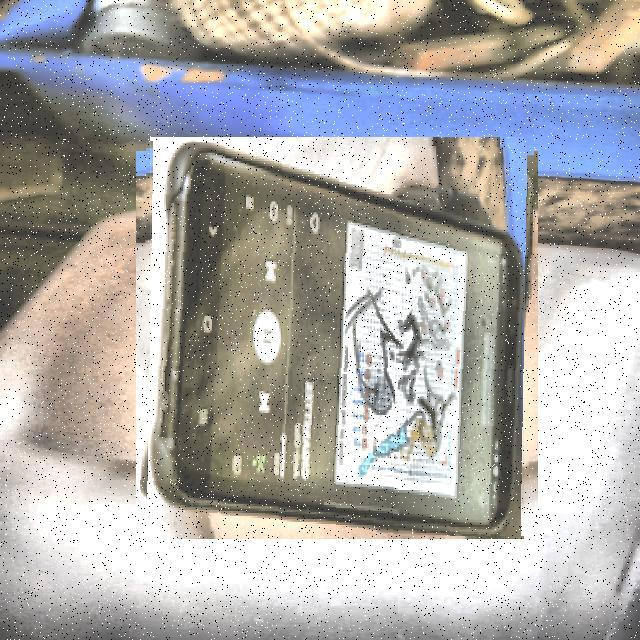Phone: (142, 142, 532, 534)
